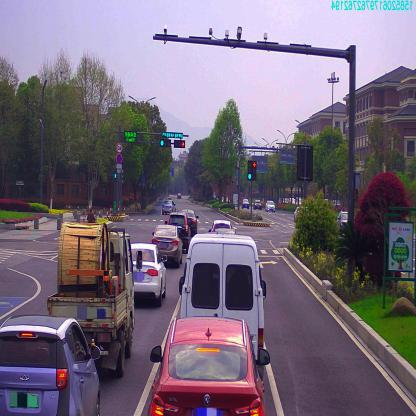traffic-light: (174, 140, 185, 150), (162, 134, 181, 138), (159, 140, 171, 146)
